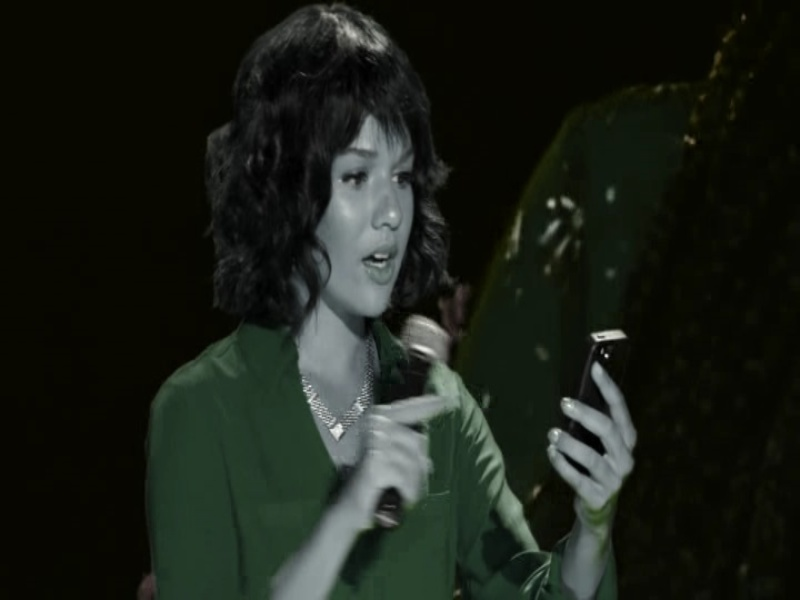TsisyArotava: (244, 24, 454, 326)
